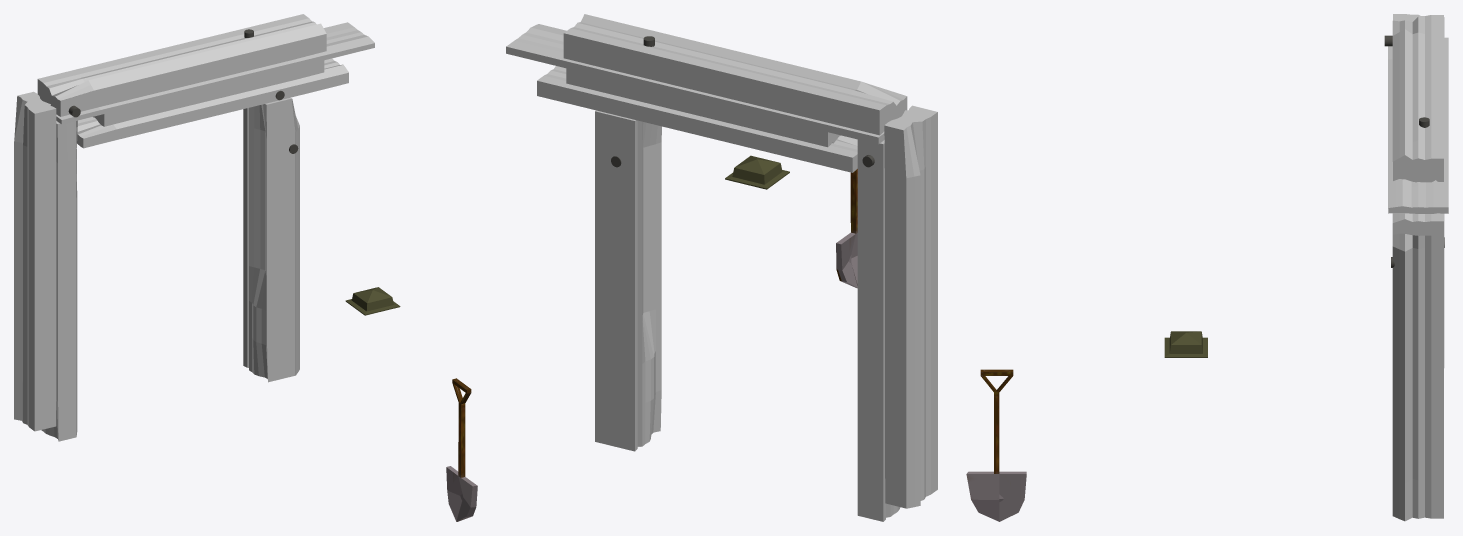
Rendered from hat.fbx.
3 views of the same model, side by side, from view 1: azimuth 30°, elevation 25°; view 2: azimuth 150°, elevation 25°; view 3: azimuth 270°, elevation 25° (orthographic). The views are drawn at different scales.
Visible parts, largest first — view 1: support, shovel, hat; view 2: support, shovel, hat; view 3: support, shovel, hat.
Boxes of the visible parts, x1,y1,x2,y2 form: support: (14,14,374,441); shovel: (446,378,477,521); hat: (345,287,400,315); support: (506,14,937,521); shovel: (836,169,857,288); hat: (725,155,789,189); support: (1384,14,1448,521); shovel: (966,369,1026,521); hat: (1164,331,1207,357).
Size of the model in its own units: 260 by 258 by 287.
